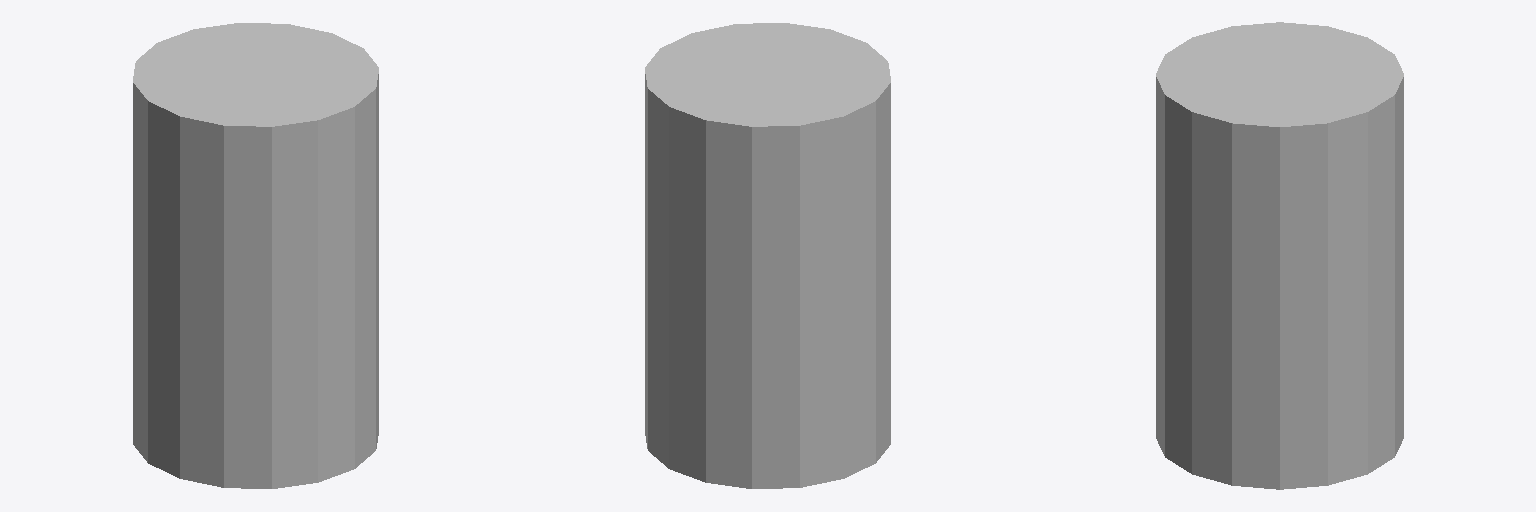
The model's file is barrel.obj.
3 renders of one model, left to right at view 1: azimuth 30°, elevation 25°; view 2: azimuth 150°, elevation 25°; view 3: azimuth 270°, elevation 25°, orthographic.
Parts seen in each view (by area): view 1: cylinder1; view 2: cylinder1; view 3: cylinder1.
Boxes of the visible parts, <box> form: cylinder1: <box>133,23,378,488</box>; cylinder1: <box>645,23,890,488</box>; cylinder1: <box>1156,22,1403,489</box>.
Bounding box in the file's own units: 0.5376 × 0.8634 × 0.5376.